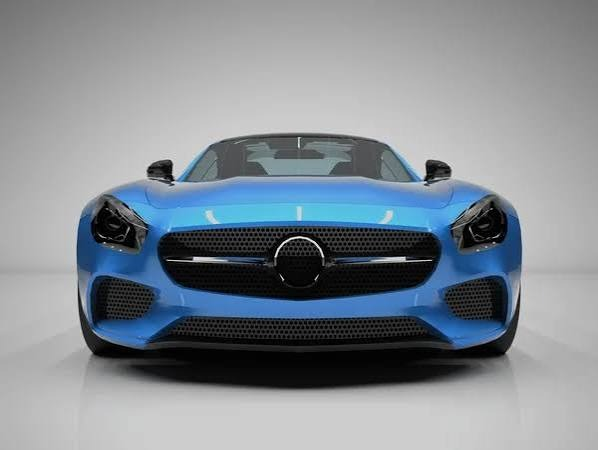car: (59, 146, 541, 355)
